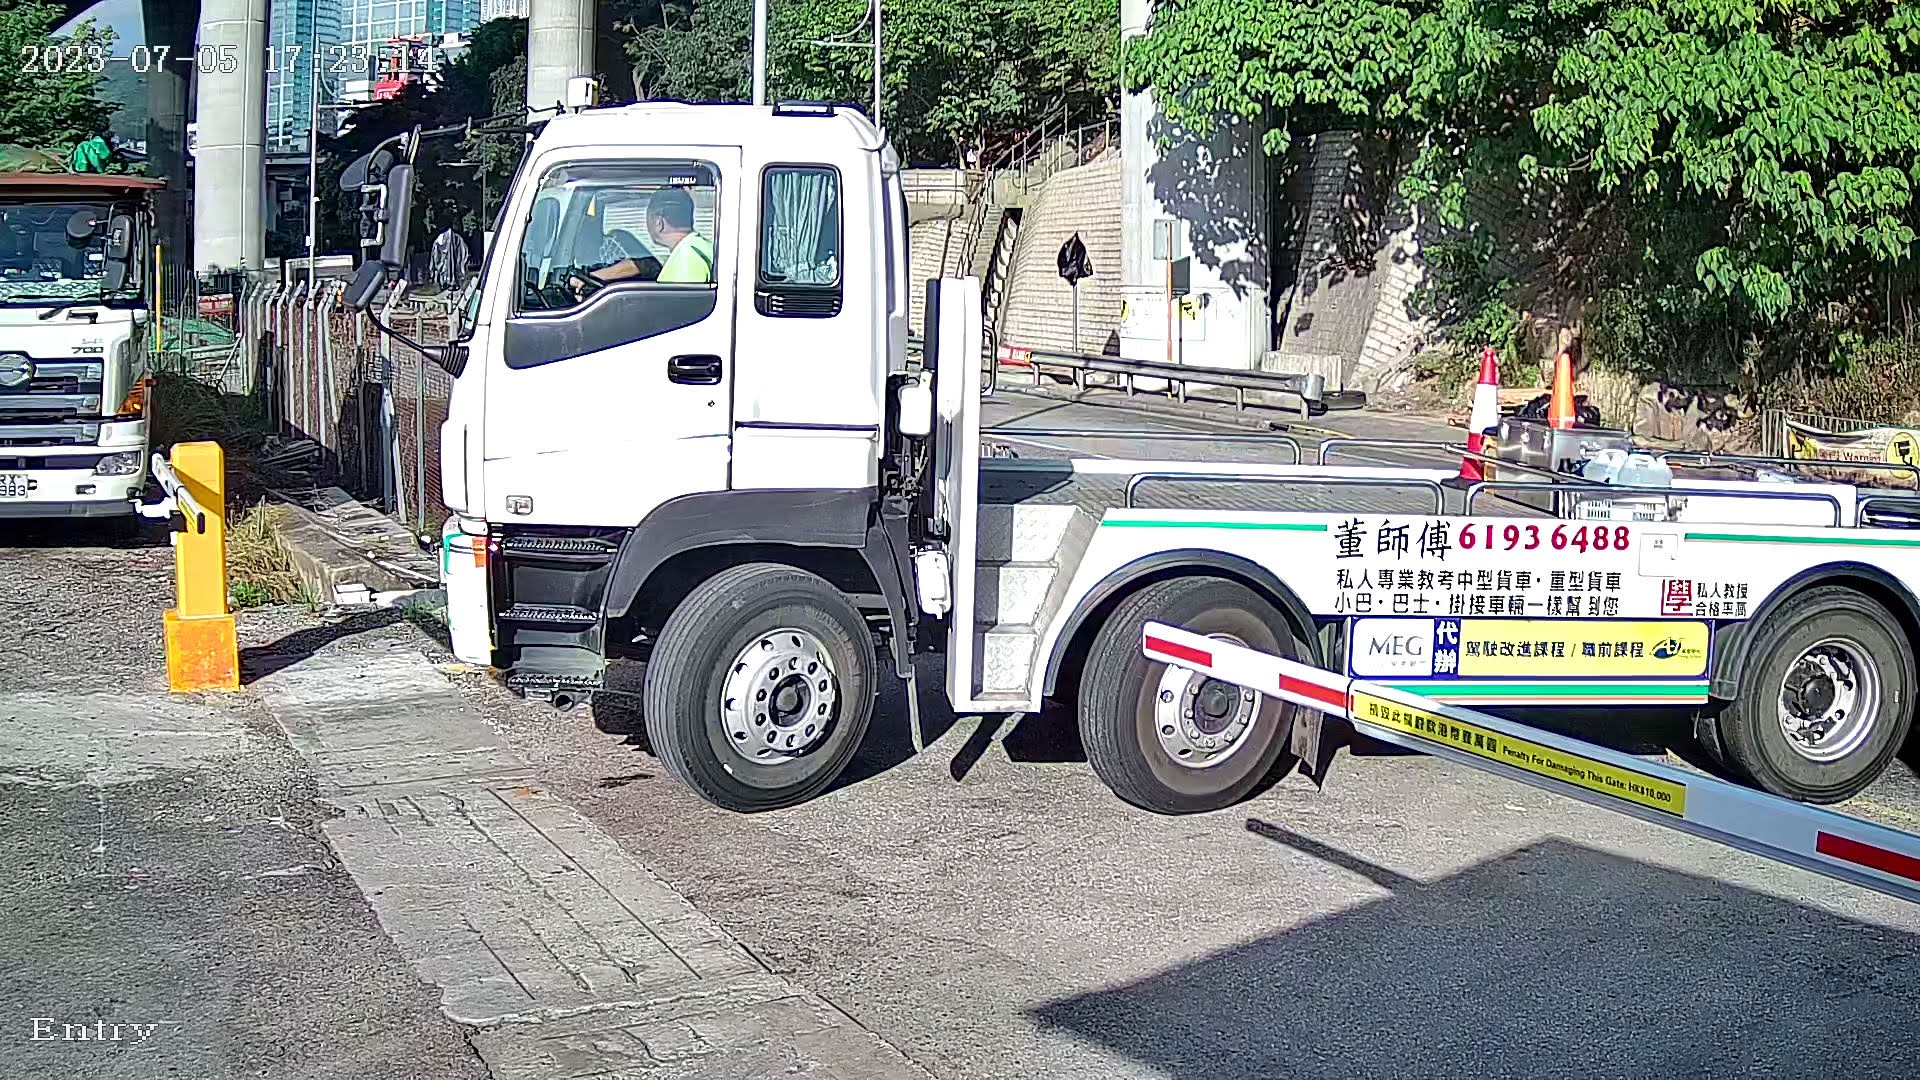truck_small: (398, 94, 1920, 845)
